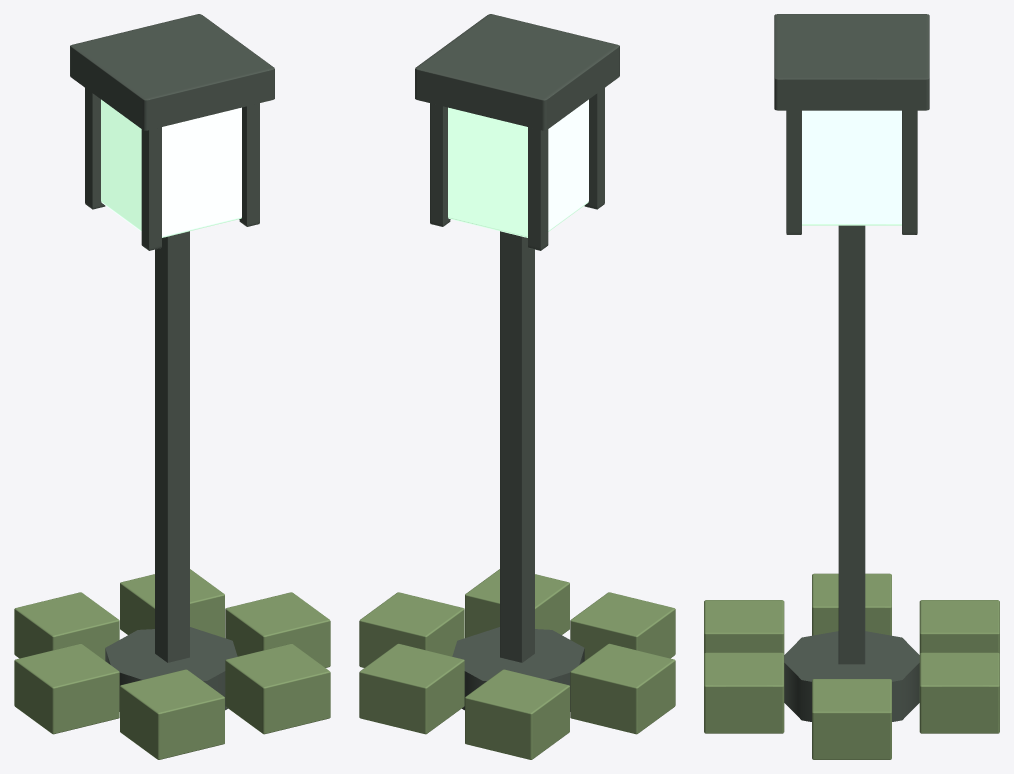
File: gardenlamp-1.glb
3 renders of one model, left to right at view 1: azimuth 30°, elevation 25°; view 2: azimuth 150°, elevation 25°; view 3: azimuth 270°, elevation 25°, orthographic. The views are drawn at different scales.
Visible parts, largest first — view 1: gardenlamp-1-0; view 2: gardenlamp-1-0; view 3: gardenlamp-1-0.
Boxes of the visible parts, x1,y1,x2,y2 form: gardenlamp-1-0: (14,14,330,759); gardenlamp-1-0: (359,14,675,759); gardenlamp-1-0: (704,14,999,759).
Bounding box in the file's own units: 0.74 × 1.62 × 0.665.
